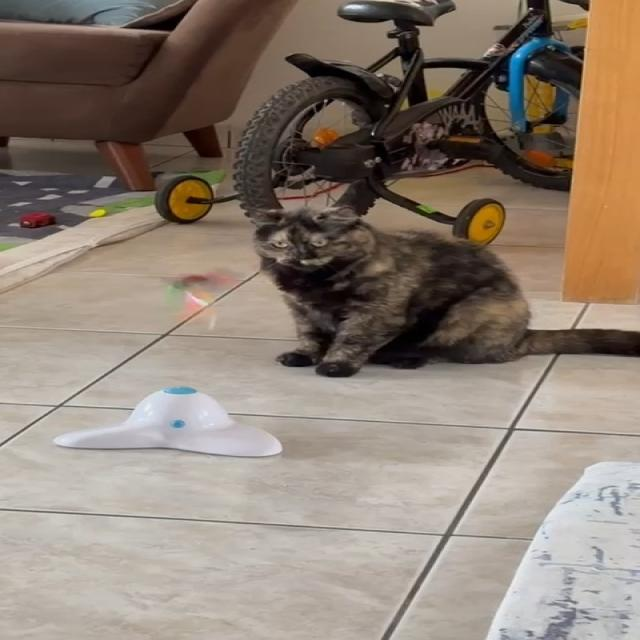authorized: (249, 204, 639, 377)
